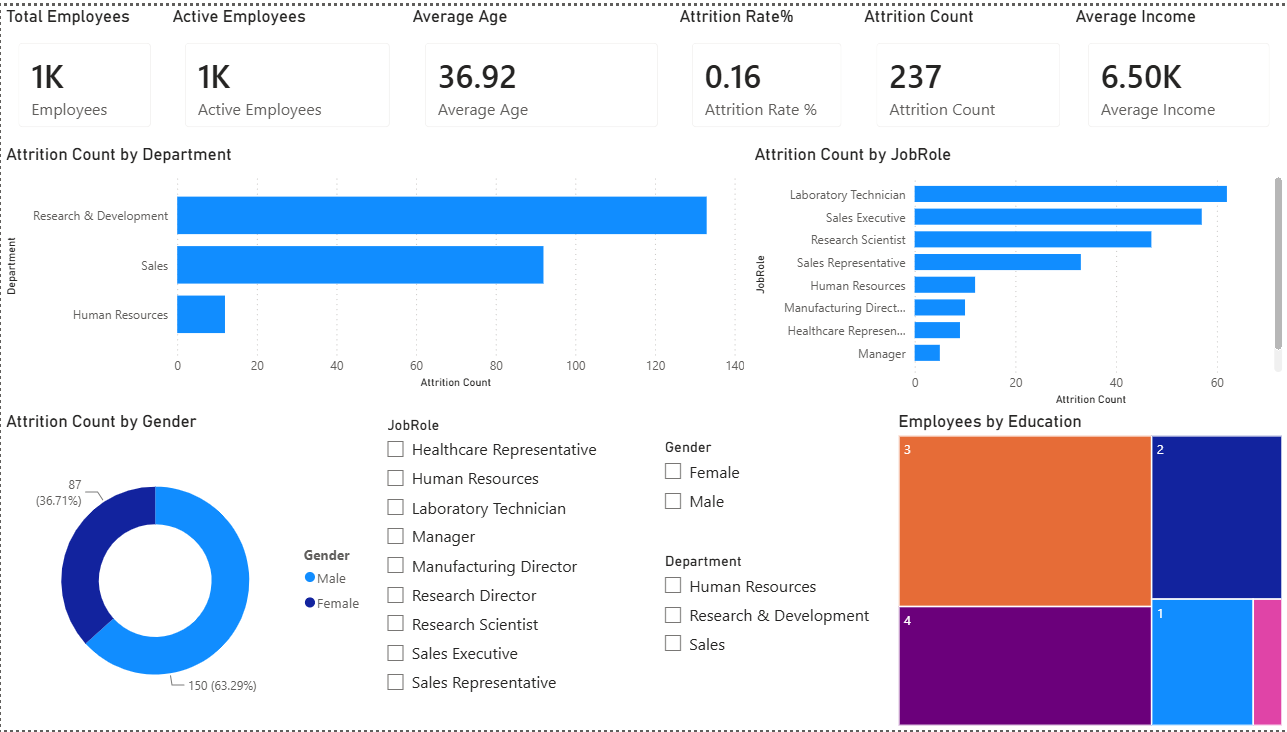

What the dashboard file says about the page in this screenshot:
{"tool":"powerbi","page":{"name":"Executive Dashboard","canvas":[1280,720],"ordinal":0},"visuals":[{"type":"cardVisual","title":"Total Employees","fields":{"Data":["HR-Employee.Employees"]},"box":[0,0,166.3,138],"z":0},{"type":"cardVisual","title":"Active Employees","fields":{"Data":["HR-Employee.Active Employees"]},"box":[166.3,0,238.1,138],"z":1000},{"type":"cardVisual","title":"Attrition Count","fields":{"Data":["HR-Employee.Attrition Count"]},"box":[854.2,0,217.3,138],"z":2000},{"type":"cardVisual","title":"Attrition Rate%","fields":{"Data":["HR-Employee.Attrition Rate %"]},"box":[670.9,0,183.3,138],"z":3000},{"type":"cardVisual","title":"Average Age","fields":{"Data":["HR-Employee.Average Age"]},"box":[404.4,0,266.5,138],"z":4000},{"type":"cardVisual","title":"Average Income","fields":{"Data":["HR-Employee.Average Income"]},"box":[1063.9,0,215.4,138],"z":5000},{"type":"clusteredBarChart","fields":{"Category":["HR-Employee.Department"],"Y":["HR-Employee.Attrition Count"]},"box":[0,138,744.6,247.6],"z":6000},{"type":"donutChart","fields":{"Category":["HR-Employee.Gender"],"Y":["HR-Employee.Attrition Count"]},"box":[0,402.5,372.3,317.5],"z":7000},{"type":"barChart","fields":{"Category":["HR-Employee.JobRole"],"Y":["HR-Employee.Attrition Count"]},"box":[744.6,138,534.8,264.6],"z":8000},{"type":"treemap","fields":{"Details":["HR-Employee.Education"],"Values":["HR-Employee.Employees"]},"box":[888.2,402.5,391.2,317.5],"z":9000},{"type":"slicer","fields":{"Values":["HR-Employee.Department"]},"box":[648.2,538.6,240,181.4],"z":10000},{"type":"slicer","fields":{"Values":["HR-Employee.Gender"]},"box":[648.2,425.2,240,94.5],"z":11000},{"type":"slicer","fields":{"Values":["HR-Employee.JobRole"]},"box":[372,403,276,317],"z":12000}]}

Visuals, with their boxes in screenshot pixels (x1, y1, x2, y2), scaled from the page's 1280x720 canvas onto the 1287x732 screenshot:
"Total Employees" cardVisual: [0, 0, 167, 140]
"Active Employees" cardVisual: [167, 0, 407, 140]
"Attrition Count" cardVisual: [859, 0, 1077, 140]
"Attrition Rate%" cardVisual: [675, 0, 859, 140]
"Average Age" cardVisual: [407, 0, 675, 140]
"Average Income" cardVisual: [1070, 0, 1286, 140]
clusteredBarChart - HR-Employee.Department x HR-Employee.Attrition Count: [0, 140, 749, 392]
donutChart - HR-Employee.Gender x HR-Employee.Attrition Count: [0, 409, 374, 731]
barChart - HR-Employee.JobRole x HR-Employee.Attrition Count: [749, 140, 1286, 409]
treemap - HR-Employee.Education x HR-Employee.Employees: [893, 409, 1286, 731]
slicer - HR-Employee.Department: [652, 548, 893, 731]
slicer - HR-Employee.Gender: [652, 432, 893, 528]
slicer - HR-Employee.JobRole: [374, 410, 652, 731]
